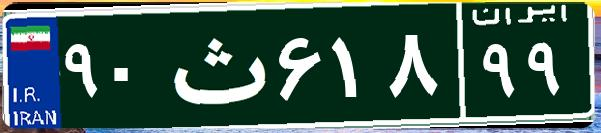0: (110, 28, 158, 105)
1: (330, 28, 385, 110)
6: (273, 28, 330, 110)
8: (385, 28, 445, 110)
9: (57, 26, 110, 107), (475, 38, 525, 113), (525, 38, 570, 115)
ث: (158, 15, 273, 115)
